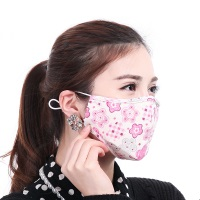face_mask: (86, 46, 159, 160)
